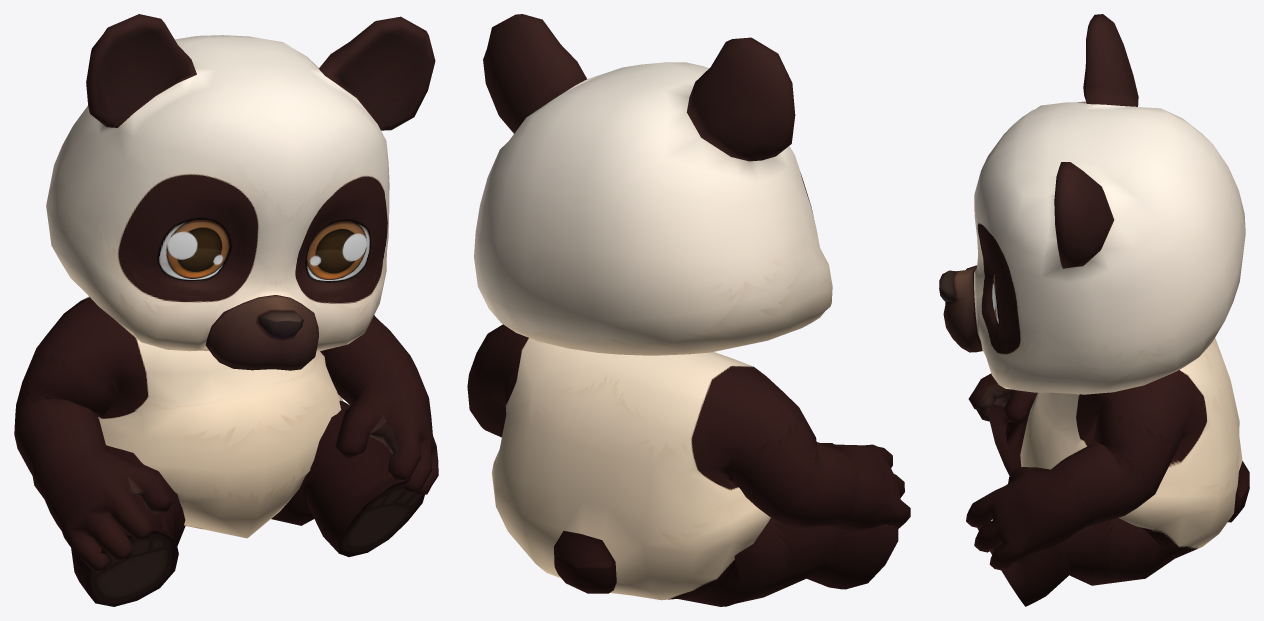
Rendered from Panda.fbx.
The picture shows the model from 3 angles, left to right: view 1: azimuth 30°, elevation 25°; view 2: azimuth 150°, elevation 25°; view 3: azimuth 270°, elevation 25°; orthographic projection. The views are drawn at different scales.
Parts seen in each view (by area): view 1: PandaStatic; view 2: PandaStatic; view 3: PandaStatic.
Part boxes in pixels (x1,y1,x2,y2): PandaStatic: (14,14,438,606); PandaStatic: (467,14,910,606); PandaStatic: (939,14,1249,606).
Size of the model in its own units: 55.45 by 75.96 by 42.56.
